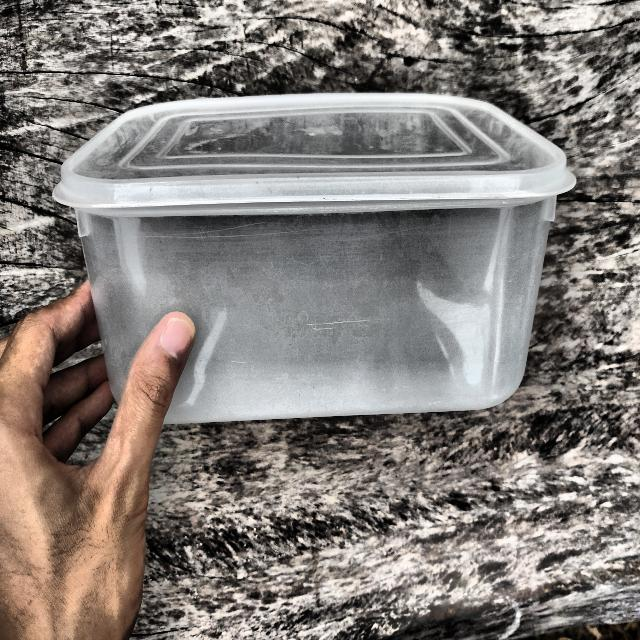plastic container: (60, 98, 517, 420)
